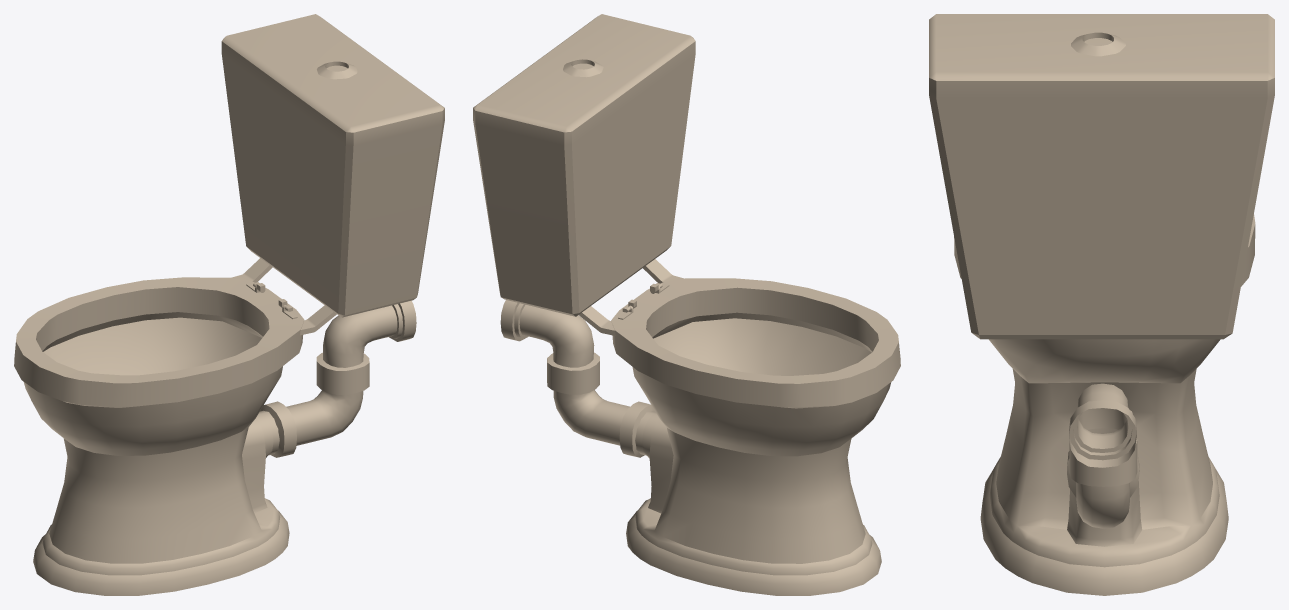
Rendered from Inodoro Sin Nada.fbx.
The picture shows the model from 3 angles, left to right: view 1: azimuth 30°, elevation 25°; view 2: azimuth 150°, elevation 25°; view 3: azimuth 270°, elevation 25°; orthographic projection. The views are drawn at different scales.
Parts seen in each view (by area): view 1: Inodoro_Sin_Nada; view 2: Inodoro_Sin_Nada; view 3: Inodoro_Sin_Nada.
Part boxes in pixels (box(x1,y1,x2,y2)): Inodoro_Sin_Nada: box(14, 14, 444, 595); Inodoro_Sin_Nada: box(473, 14, 900, 595); Inodoro_Sin_Nada: box(929, 14, 1274, 595).
Bounding box in the file's own units: 0.7258 × 0.8237 × 0.4361.
